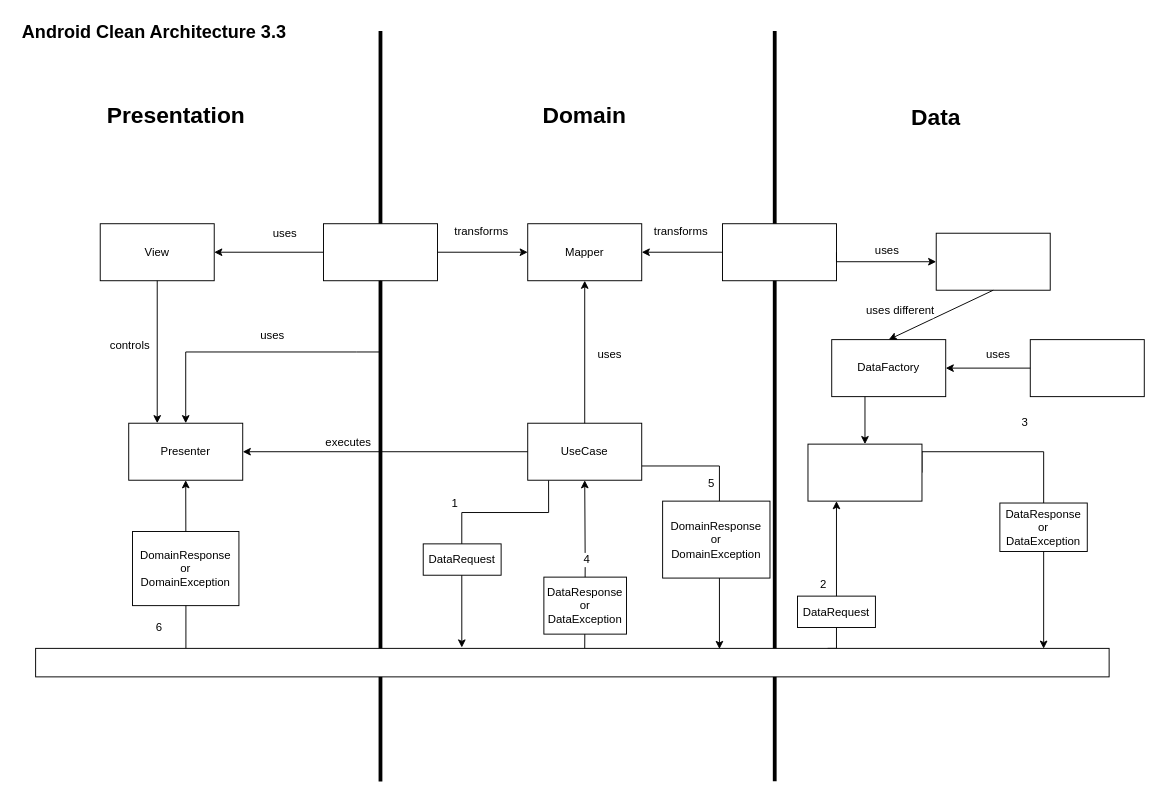
Image size: 1161x806. Some labels were removed from this diagram. The box of each missing label's shape, as (x1, y1, x2, y2) in pixels:
Bus: (35, 647, 1109, 677)
Cache: (1029, 339, 1144, 397)
DataSource: (935, 232, 1050, 290)
Entity: (722, 223, 836, 281)
Model: (323, 223, 437, 281)
Repository: (807, 443, 922, 501)
